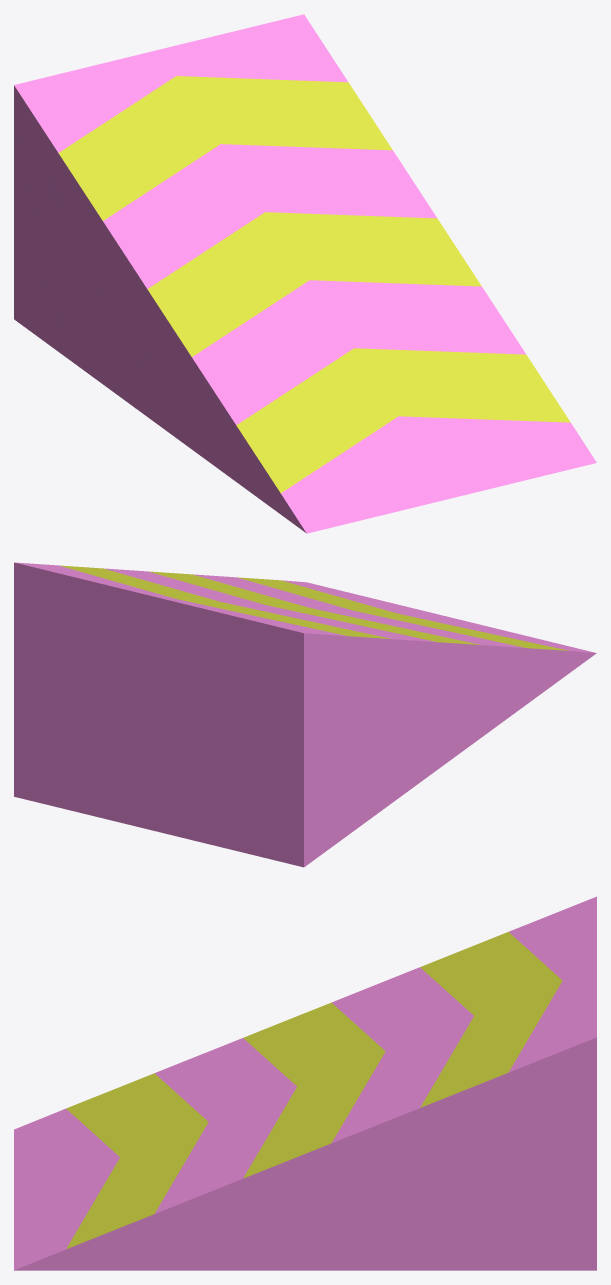
Rendered from ramp.fbx.
The picture shows the model from 3 angles, top to bottom: view 1: azimuth 30°, elevation 25°; view 2: azimuth 150°, elevation 25°; view 3: azimuth 270°, elevation 25°; orthographic projection.
Visible parts, largest first — view 1: Cube; view 2: Cube; view 3: Cube.
Boxes of the visible parts, bbox=[...] form: Cube: bbox=[14, 14, 596, 533]; Cube: bbox=[14, 562, 596, 867]; Cube: bbox=[14, 896, 596, 1270].
Size of the model in its own units: 76.1 by 58.72 by 133.
